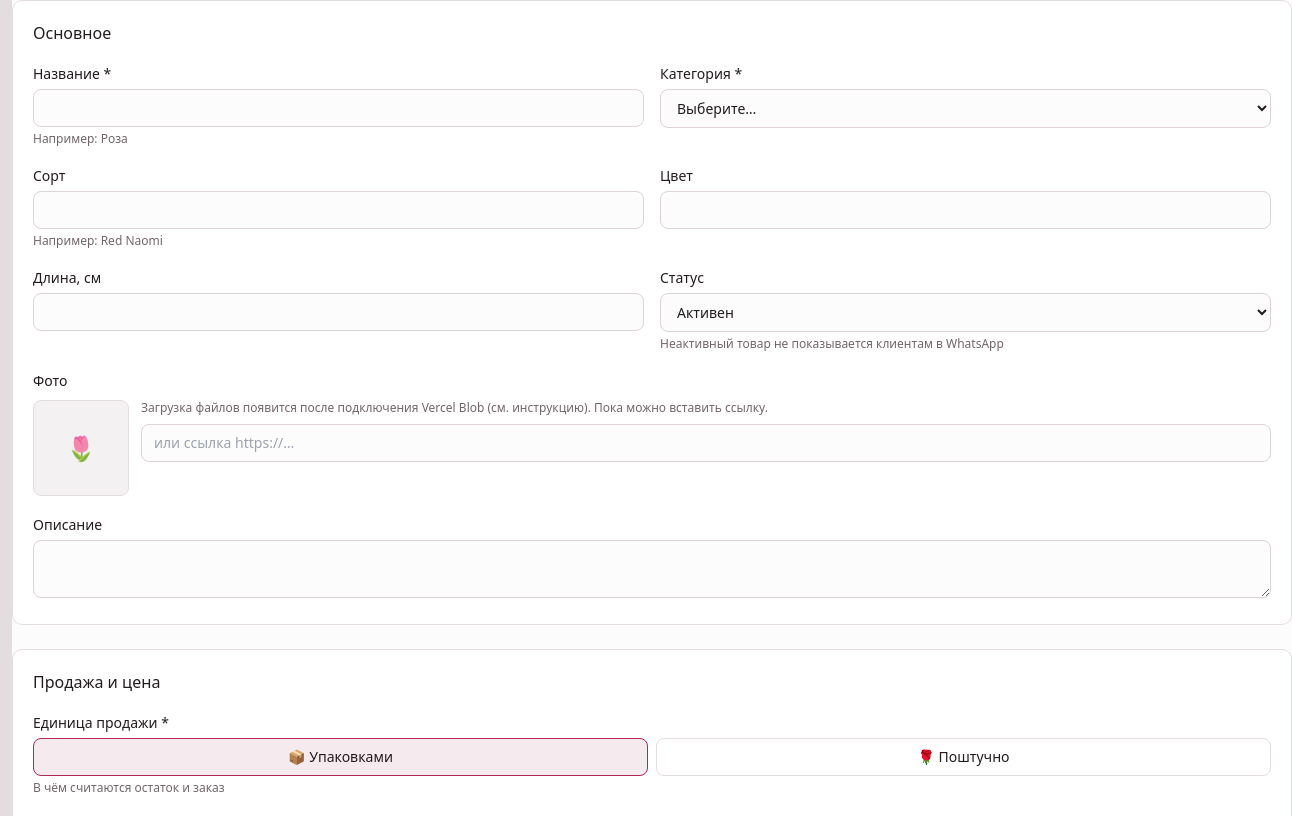
it: F2: қате болғанда формадағы мәндер сақталады › Товар: Роза / Explorer / 26000 — қатеден кейін орнында, қате көрінеді
The image size is (1292, 816).
Type "Роза" into the field labelled "Название * Например: Роза" at (338, 108), box [33, 89, 644, 127]
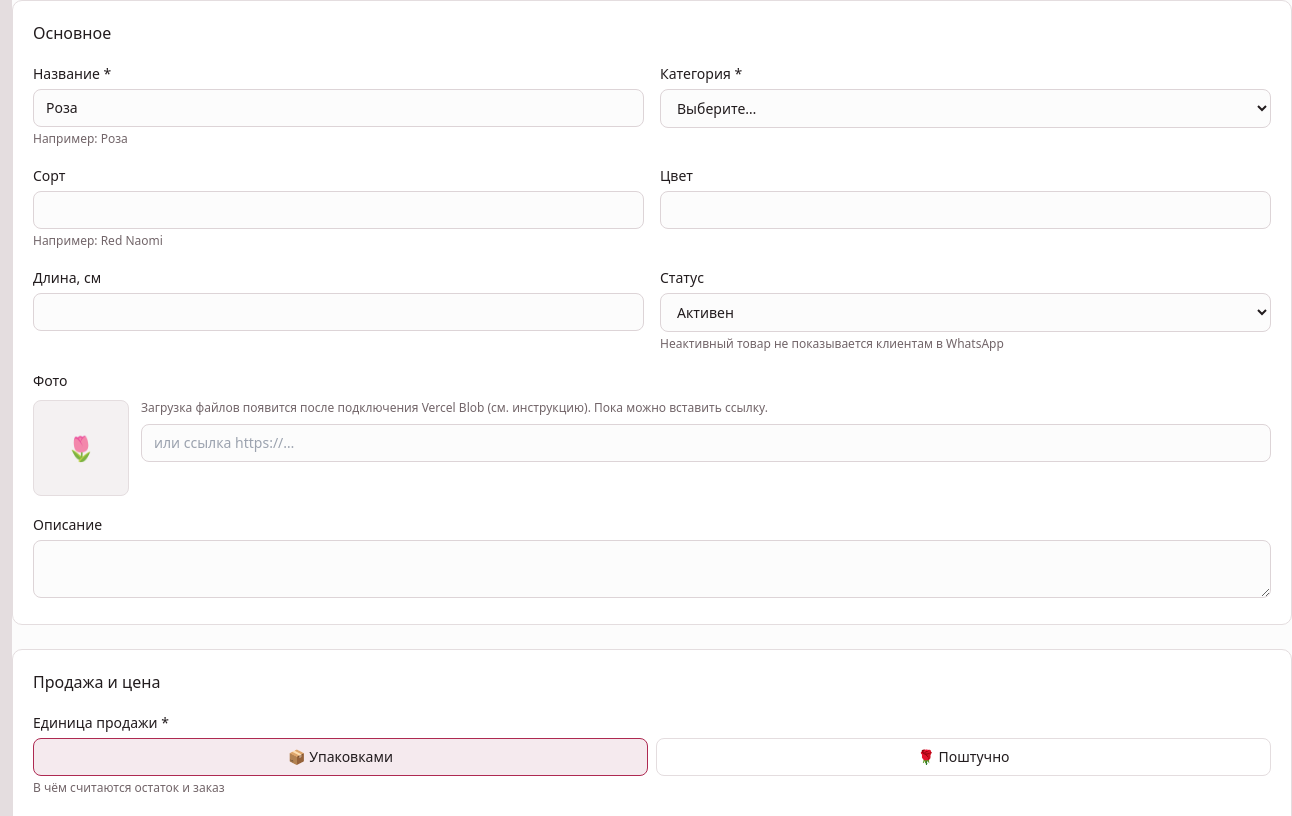
Select "🌹 Роза" in the dropdown labelled "Категория *" at (966, 108), box [660, 89, 1271, 128]
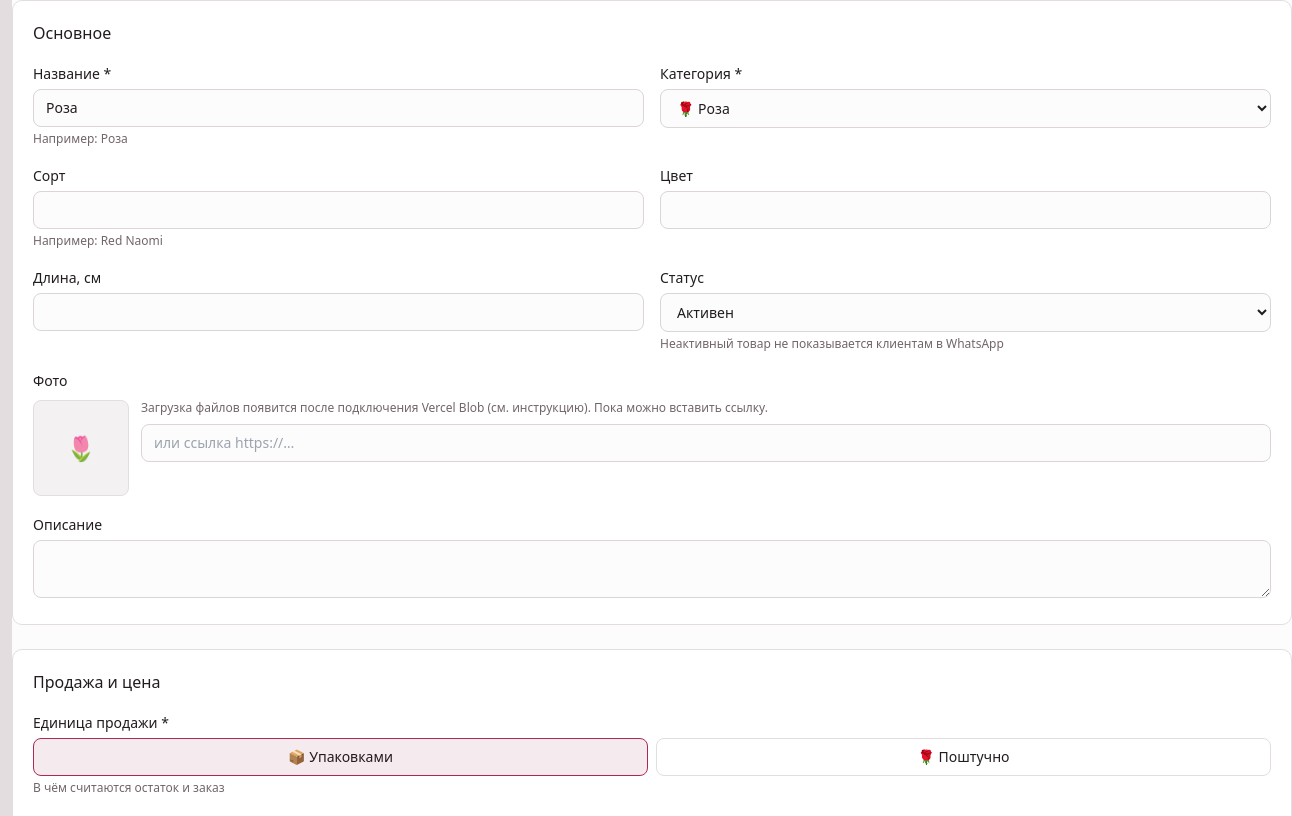
Type "Explorer" into the field labelled "Сорт Например: Red Naomi" at (338, 210), box [33, 191, 644, 229]
(page scrolled)
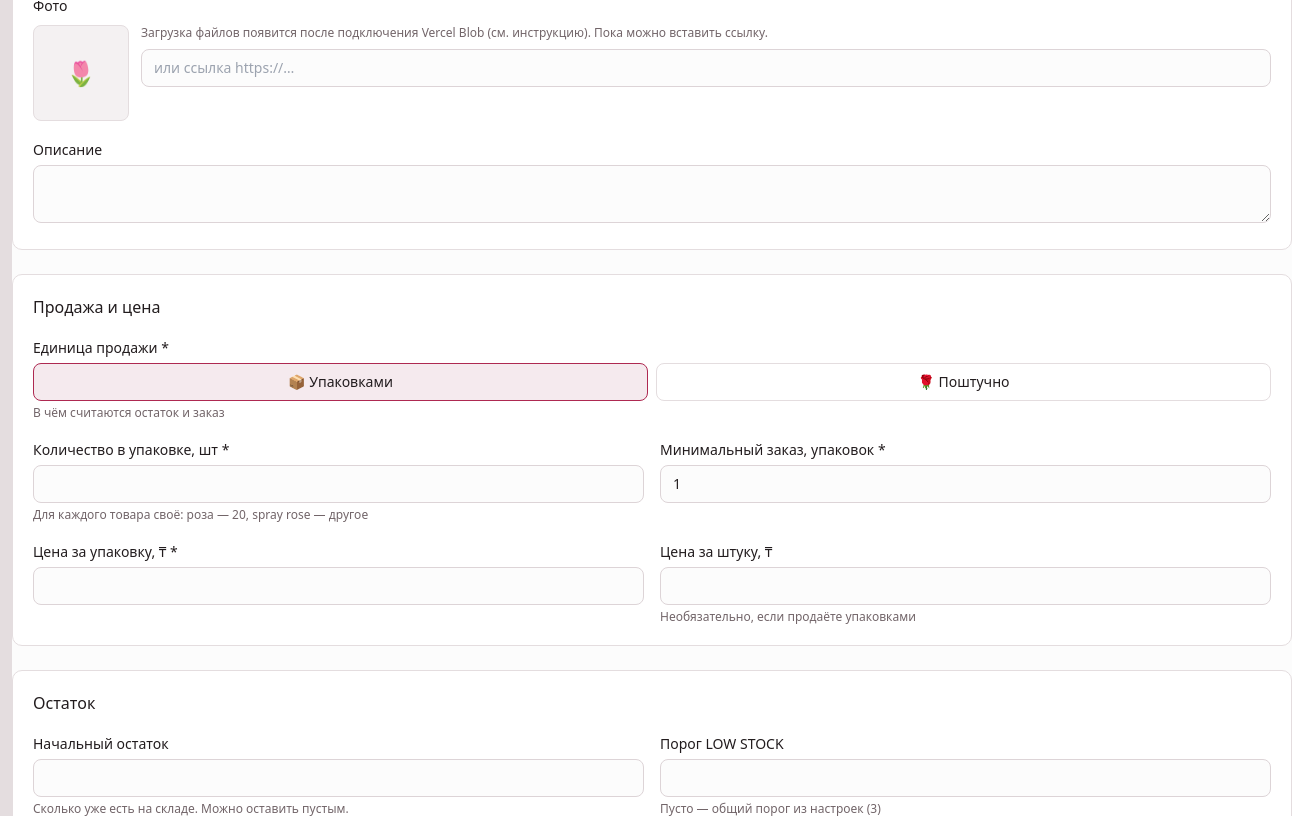
Type "26000" into the number field labelled "Цена за упаковку, ₸ *" at (338, 586), box [33, 567, 644, 605]
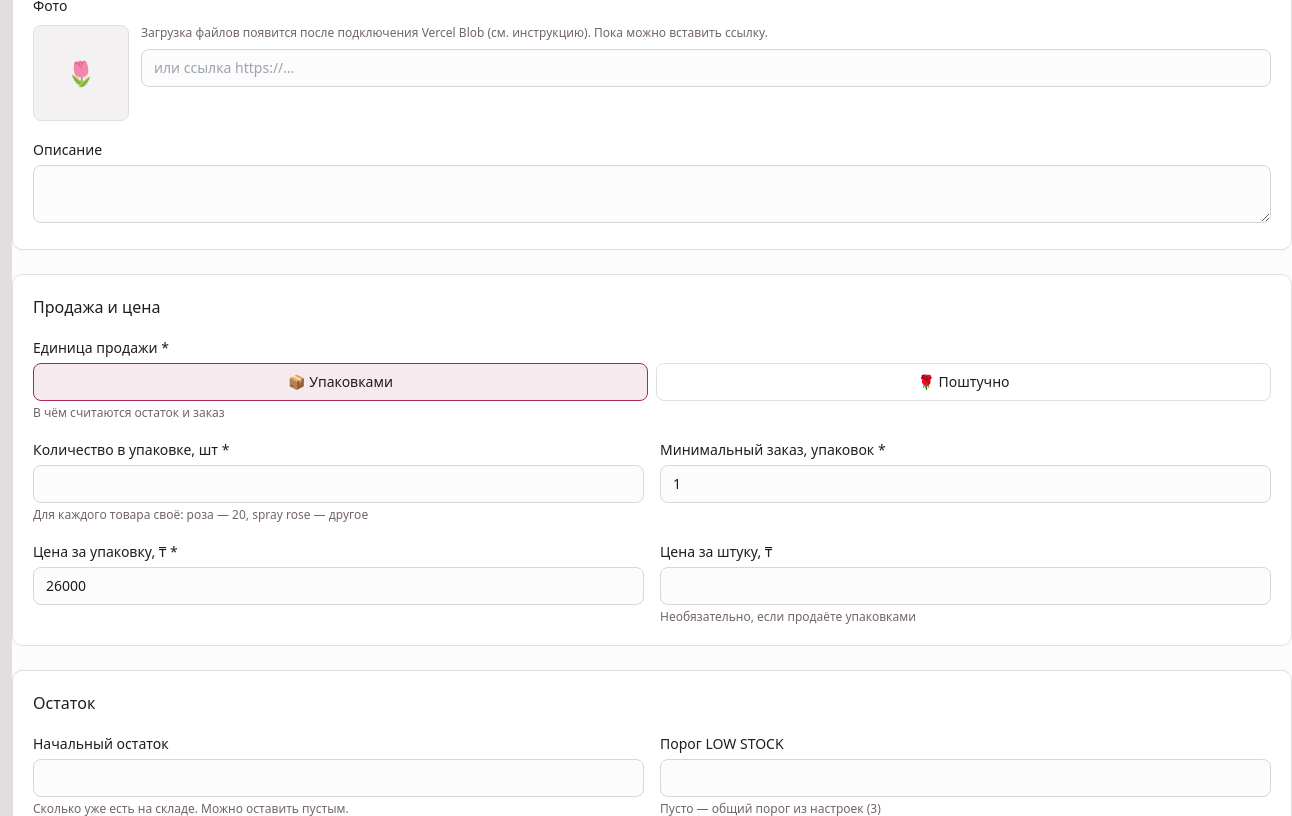
Type "7" into the 5th number field at (338, 778), box [33, 759, 644, 797]
(page scrolled)
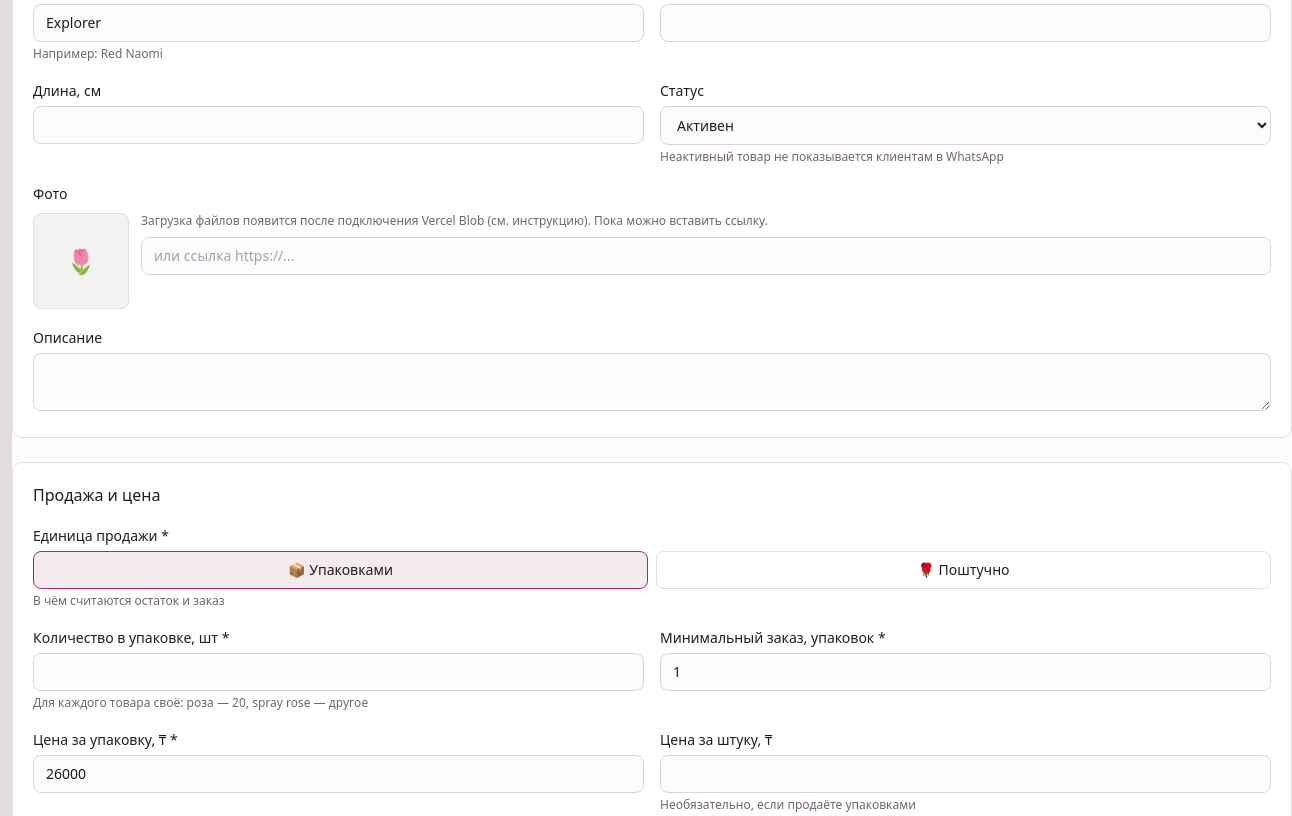
Submit the form
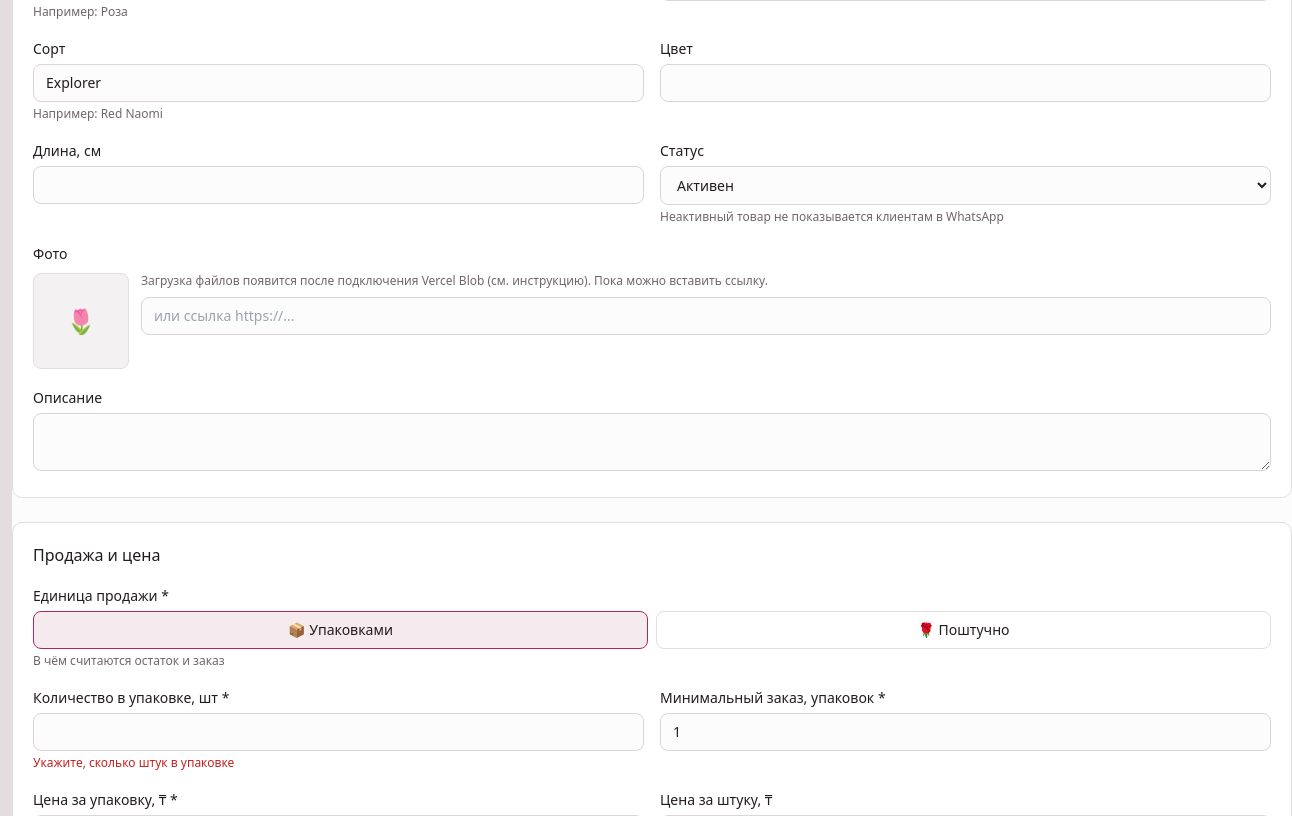
Now the text "Укажите, сколько штук в упаковке" is shown, box [33, 754, 234, 771]
